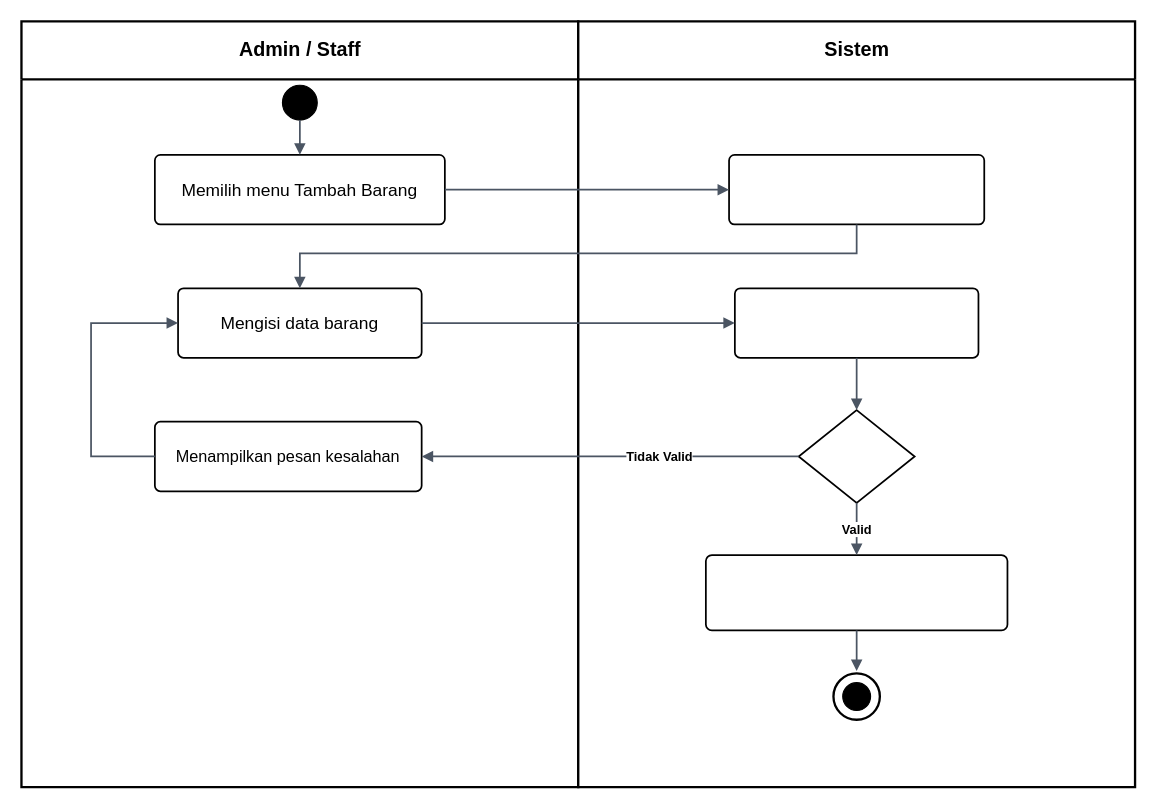
Some shapes in this 1155 by 807 pixel diagram are drawn without their labels. The shapes that lost their labels are listed below. From the top down, each one's centre as x and y in pixels, then its label:
At (x=856, y=189): "Menampilkan formulir barang".
At (x=856, y=322): "Memvalidasi data barang".
At (x=856, y=592): "Menyimpan data dan membuat QR Code".
